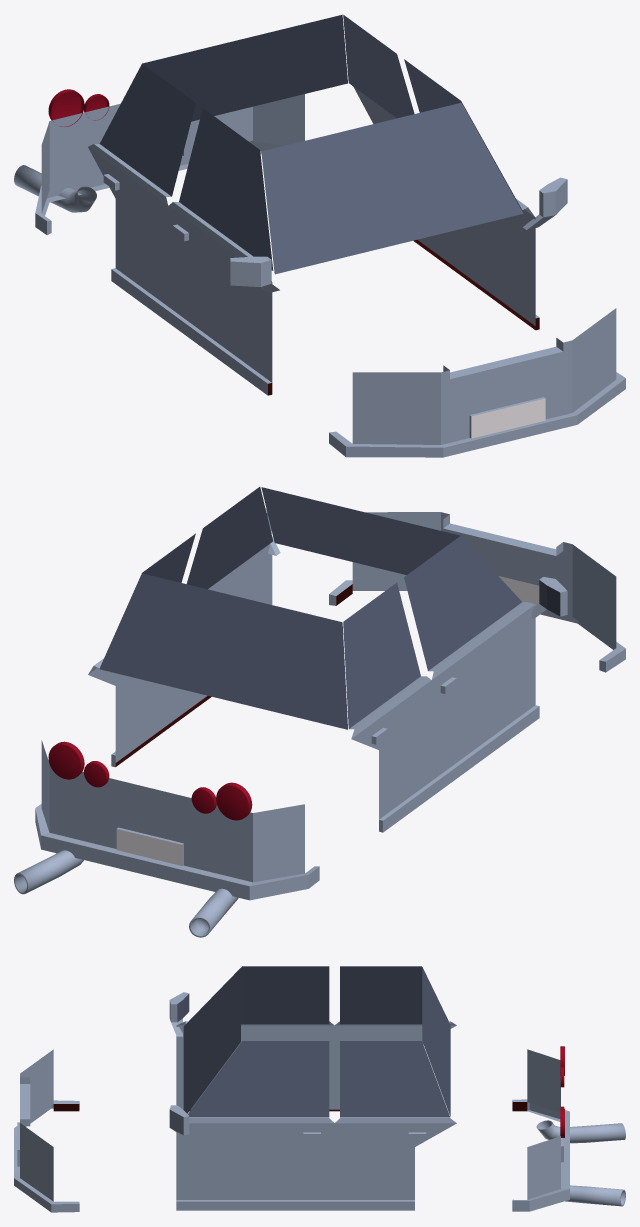
File: car3Bumper3.fbx
3 renders of one model, top to bottom at view 1: azimuth 30°, elevation 25°; view 2: azimuth 150°, elevation 25°; view 3: azimuth 270°, elevation 25°, orthographic. The views are drawn at different scales.
Parts seen in each view (by area): view 1: bumper3.002; view 2: bumper3.002; view 3: bumper3.002.
Boxes of the visible parts, x1,y1,x2,y2 form: bumper3.002: [14, 14, 625, 457]; bumper3.002: [14, 487, 625, 937]; bumper3.002: [14, 966, 625, 1212].
Bounding box in the file's own units: 2.81 × 1.77 × 5.81.
